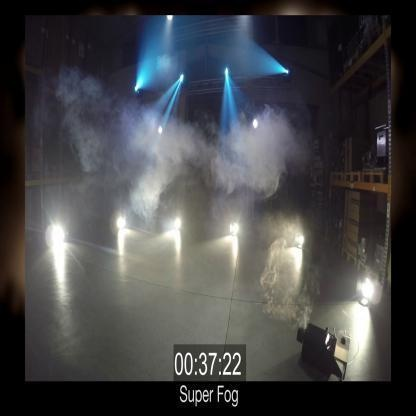smoke: (117, 105, 286, 189)
